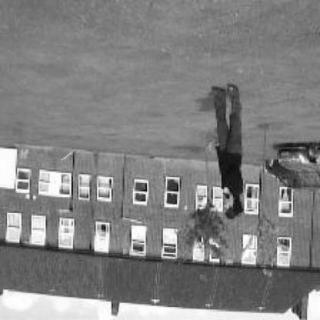other: (203, 128, 223, 156)
